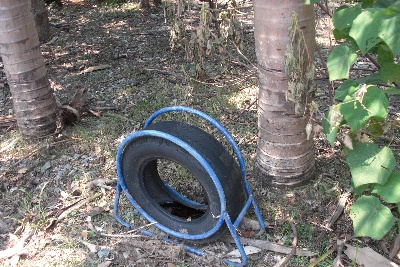tire: (121, 120, 246, 245)
